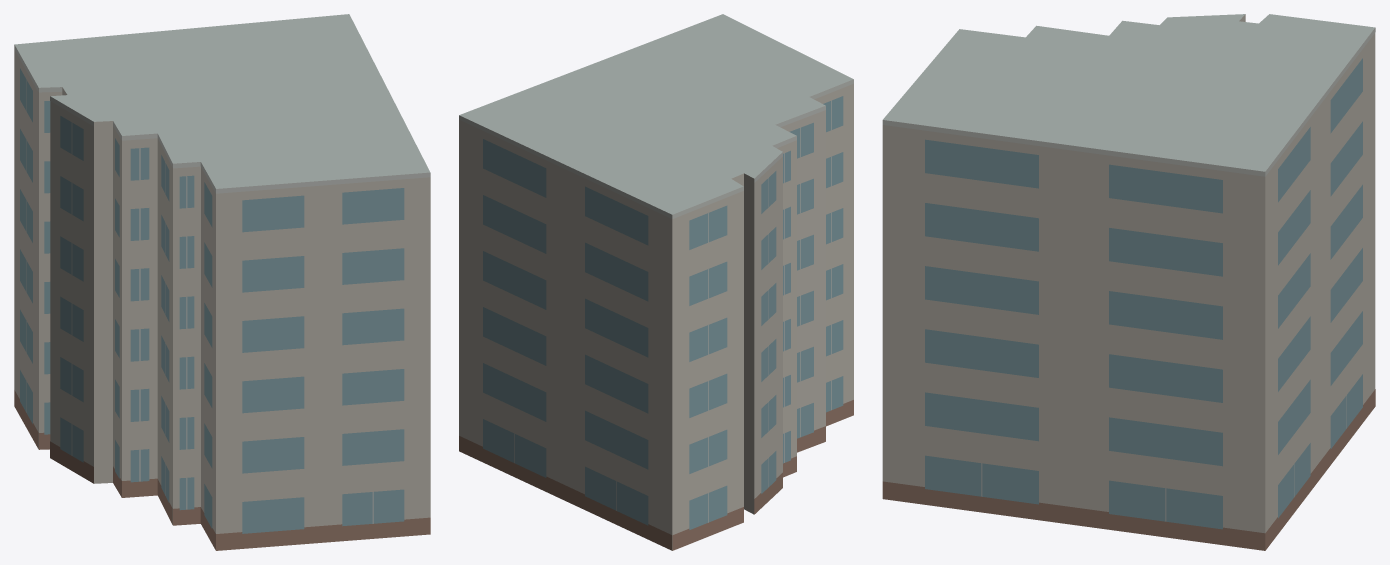
Rendered from survey-upis-32847964.glb.
3 renders of one model, left to right at view 1: azimuth 30°, elevation 25°; view 2: azimuth 150°, elevation 25°; view 3: azimuth 270°, elevation 25°, orthographic. The views are drawn at different scales.
Visible parts, largest first — view 1: survey-upis-32847964.tmp; view 2: survey-upis-32847964.tmp; view 3: survey-upis-32847964.tmp.
Part boxes in pixels (x1,y1,x2,y2): survey-upis-32847964.tmp: (14, 14, 430, 550); survey-upis-32847964.tmp: (459, 14, 853, 550); survey-upis-32847964.tmp: (882, 14, 1375, 550).
Size of the model in its own units: 16.65 by 18.65 by 21.98.
